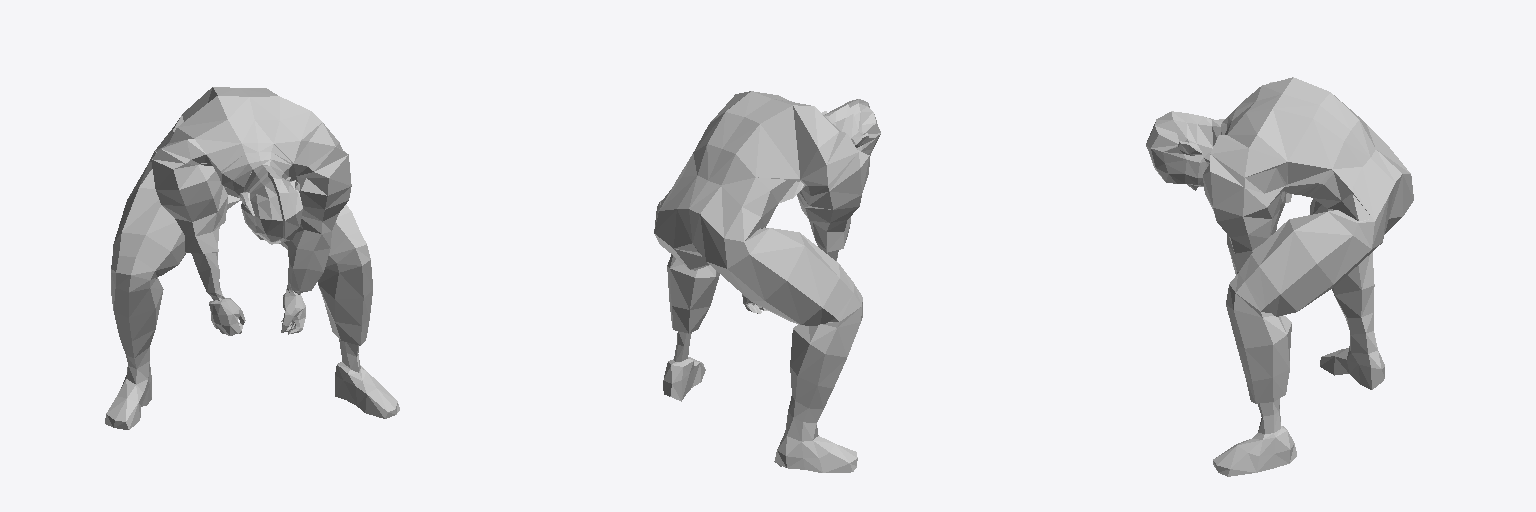
File: ZombieAttack(57).obj
3 renders of one model, left to right at view 1: azimuth 30°, elevation 25°; view 2: azimuth 150°, elevation 25°; view 3: azimuth 270°, elevation 25°, orthographic.
Visible parts, largest first — view 1: Plane002; view 2: Plane002; view 3: Plane002.
Part boxes in pixels (left/top/right/bottom): Plane002: left=105, top=87, right=399, bottom=429; Plane002: left=654, top=91, right=880, bottom=472; Plane002: left=1146, top=77, right=1413, bottom=476.
Bounding box in the file's own units: 834 × 1102 × 821.